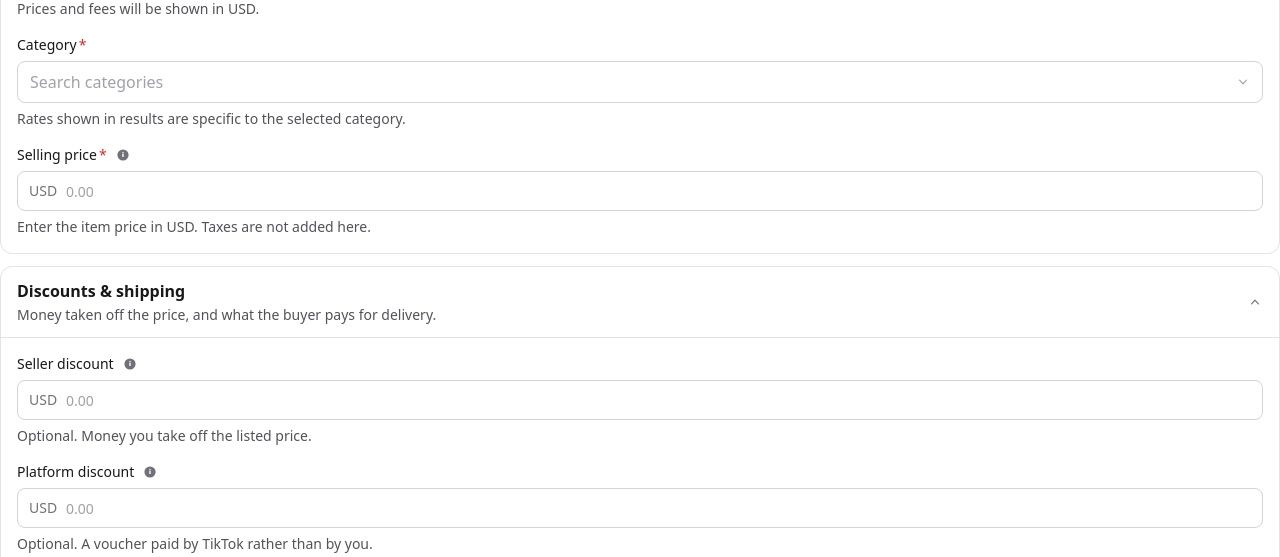
CalculatorForm results cycle › marks a previous result as out of date once an input changes
Step 1. Focus the dropdown labelled "Category*" → (640, 82), box [17,61,1263,103]
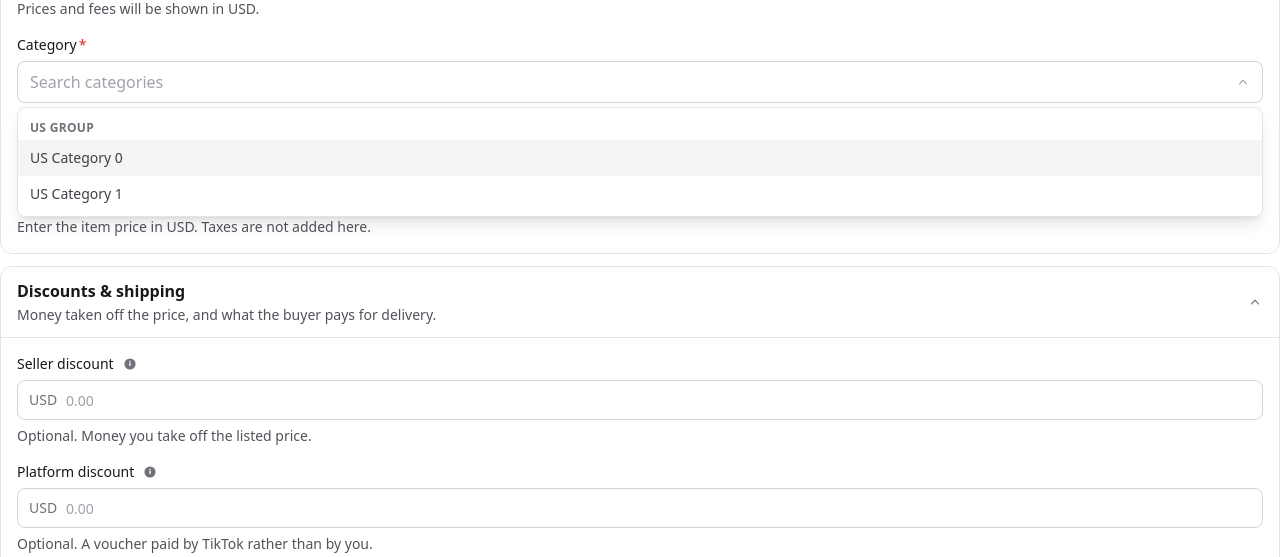
Step 2. Press the mouse on the option "US Category 0" → (76, 158), box [18,140,1262,176]
(page scrolled)
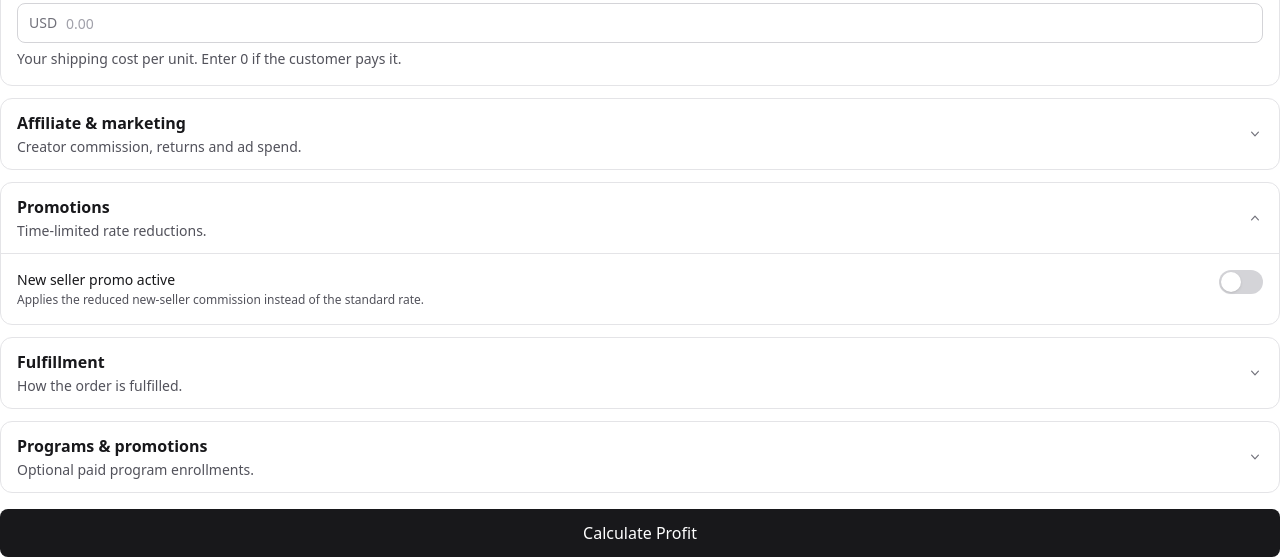
Step 3. Click the button "Calculate Profit" → (640, 533), box [0,509,1279,556]
(page scrolled)
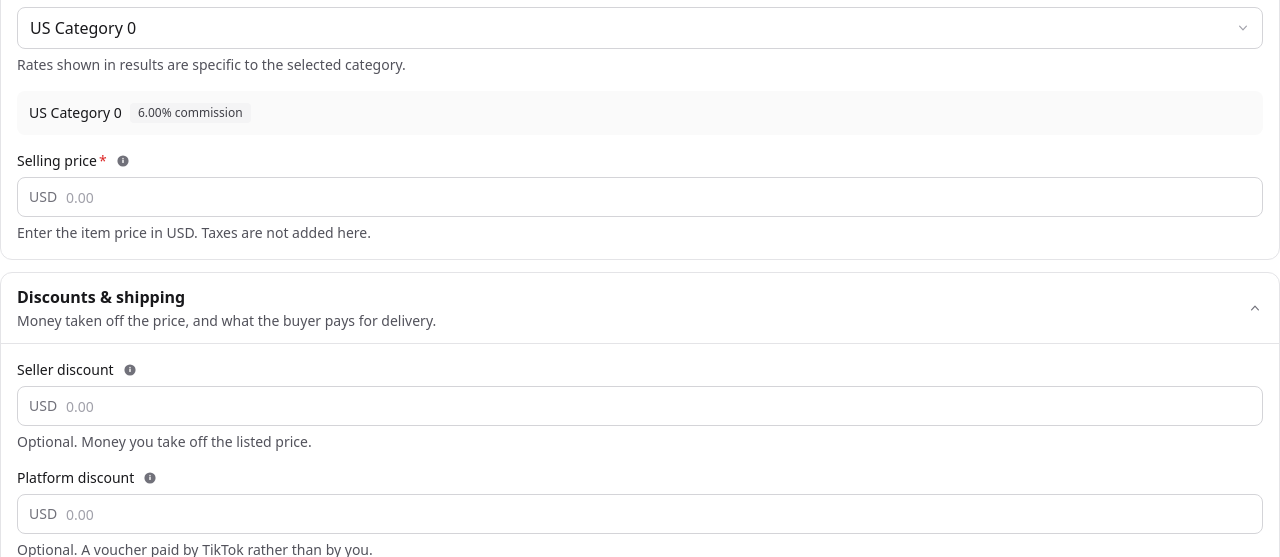
Step 4. Type "120" into the number field labelled "Selling price*" → (640, 197), box [17,177,1263,217]
(page scrolled)
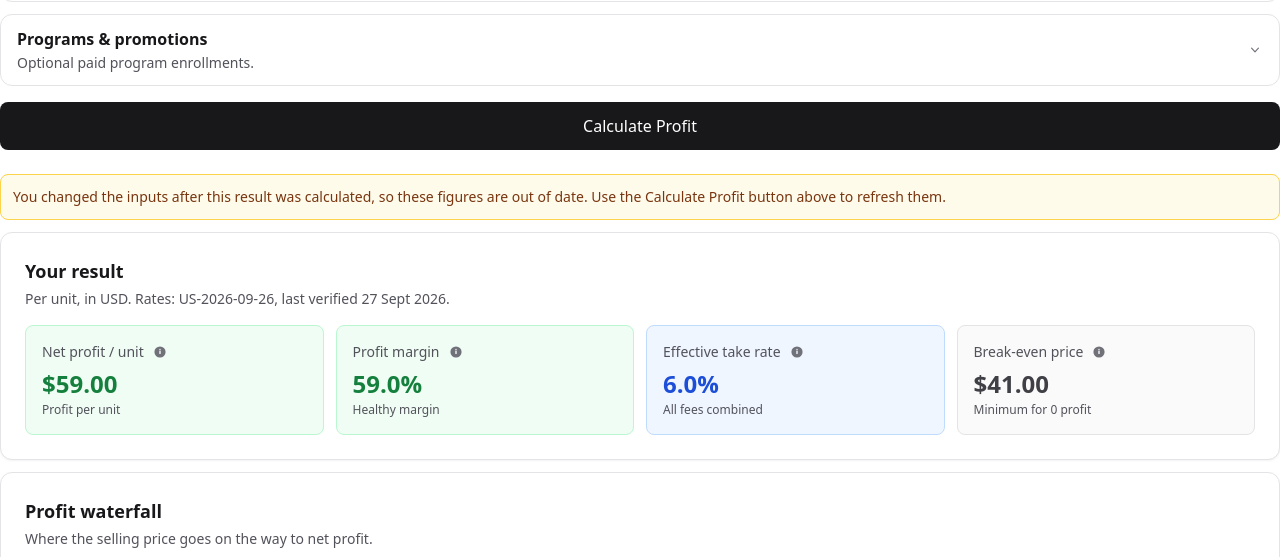
Expected: the text "these figures are out of date" is shown, [13,187,946,206]
